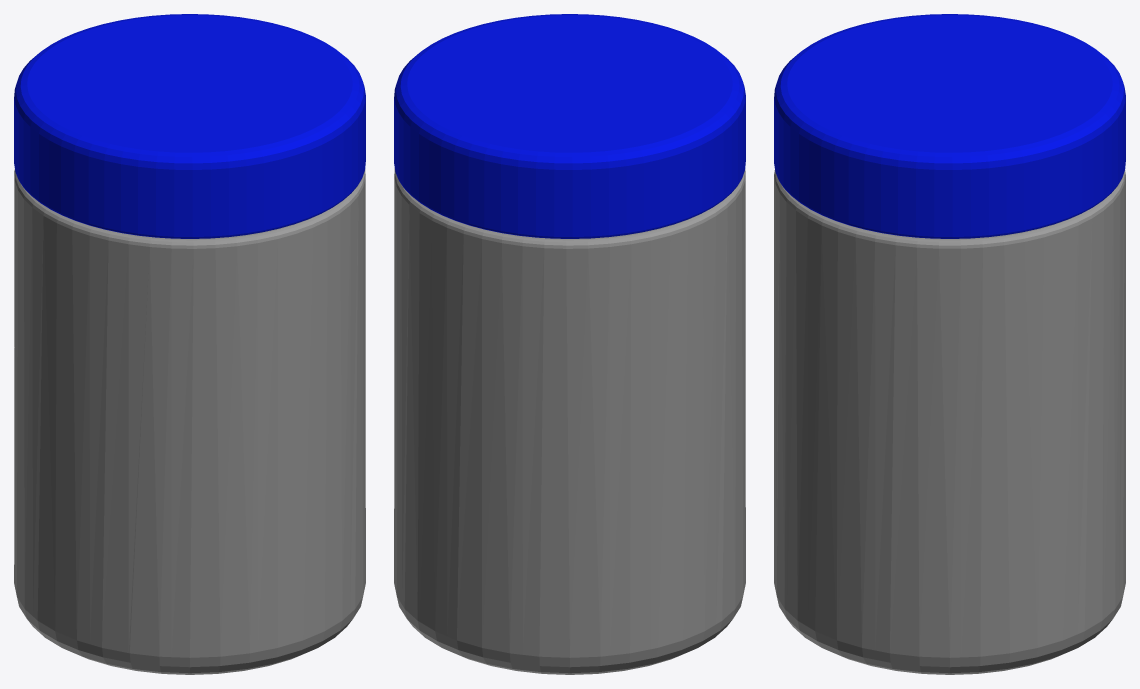
3 renders of one model, left to right at view 1: azimuth 30°, elevation 25°; view 2: azimuth 150°, elevation 25°; view 3: azimuth 270°, elevation 25°, orthographic.
Parts seen in each view (by area): view 1: object1, object0; view 2: object1, object0; view 3: object1, object0.
Boxes of the visible parts, left/top/right/bottom form: object1: left=14, top=169, right=365, bottom=674; object0: left=14, top=14, right=365, bottom=238; object1: left=394, top=168, right=745, bottom=674; object0: left=394, top=14, right=745, bottom=238; object1: left=774, top=170, right=1125, bottom=674; object0: left=774, top=14, right=1125, bottom=238.
Bounding box in the file's own units: 0.108 × 0.1784 × 0.108.
